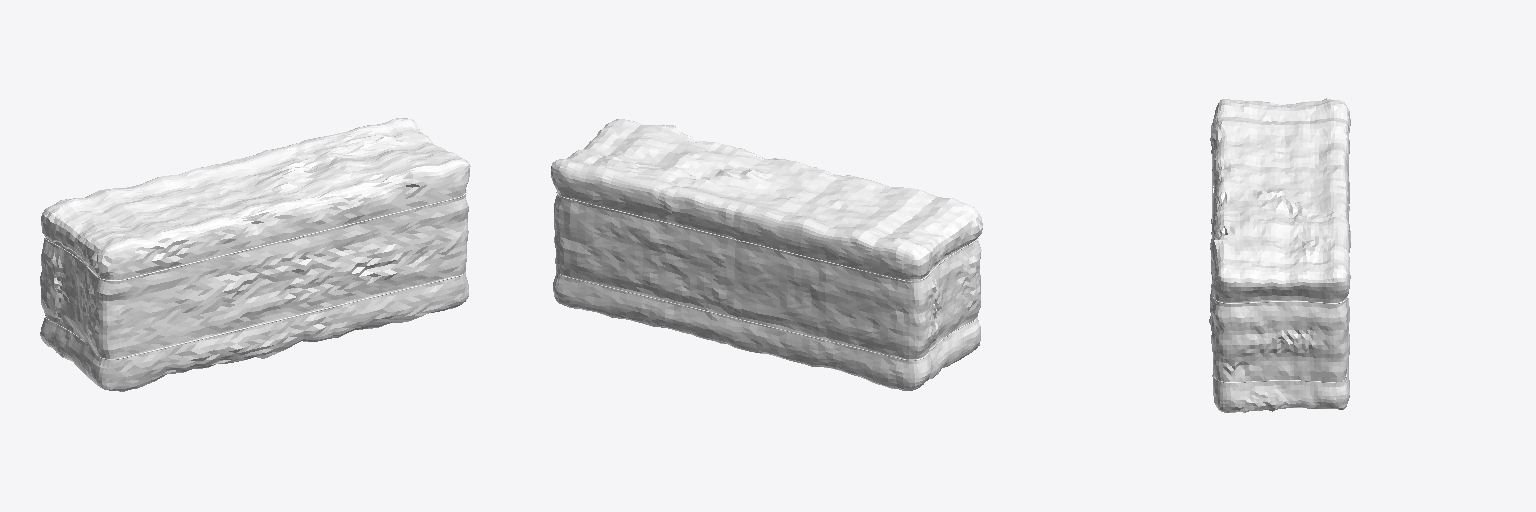
Rendered from wall2.obj.
The picture shows the model from 3 angles: view 1: azimuth 30°, elevation 25°; view 2: azimuth 150°, elevation 25°; view 3: azimuth 270°, elevation 25°; orthographic projection.
Parts seen in each view (by area): view 1: 11543_BundleOfStraw_V2_l1; view 2: 11543_BundleOfStraw_V2_l1; view 3: 11543_BundleOfStraw_V2_l1.
Part boxes in pixels (x1,y1,x2,y2): 11543_BundleOfStraw_V2_l1: (40, 118, 470, 391); 11543_BundleOfStraw_V2_l1: (551, 119, 982, 390); 11543_BundleOfStraw_V2_l1: (1209, 98, 1350, 412).
Size of the model in its own units: 17.45 by 6.87 by 5.74.